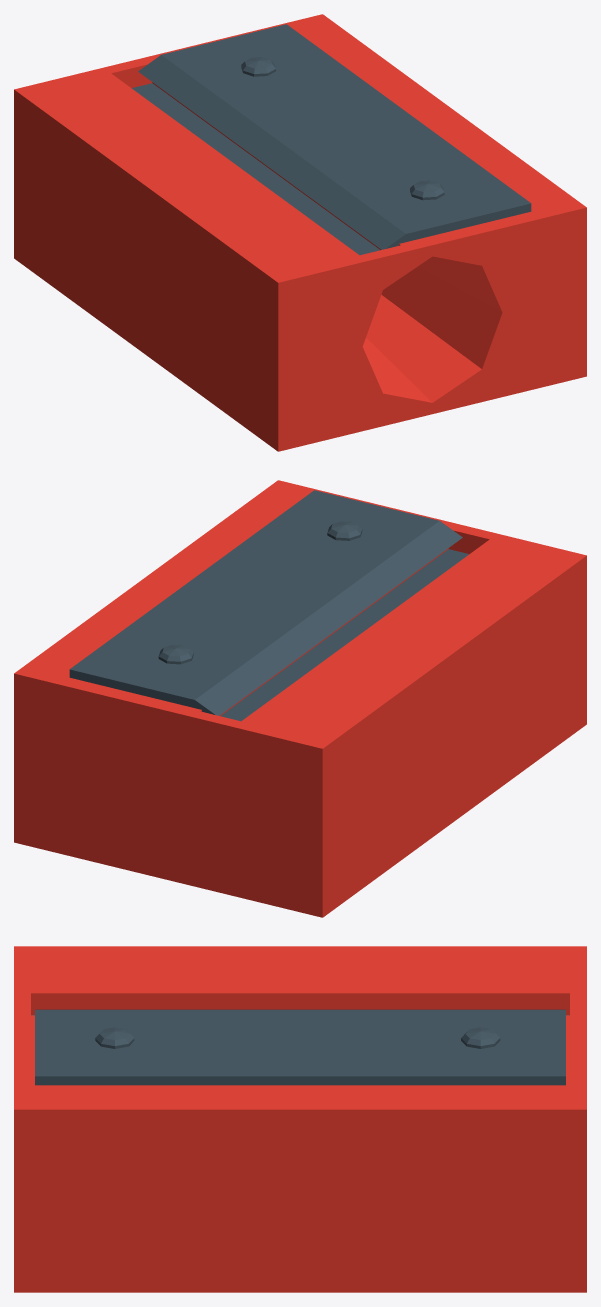
File: pencil-sharpener.glb
3 renders of one model, top to bottom at view 1: azimuth 30°, elevation 25°; view 2: azimuth 150°, elevation 25°; view 3: azimuth 270°, elevation 25°, orthographic. The views are drawn at different scales.
Visible parts, largest first — view 1: Pencil_Sharpener_Cube.042; view 2: Pencil_Sharpener_Cube.042; view 3: Pencil_Sharpener_Cube.042.
Part boxes in pixels (x1,y1,x2,y2): Pencil_Sharpener_Cube.042: (14, 14, 586, 451); Pencil_Sharpener_Cube.042: (14, 480, 586, 917); Pencil_Sharpener_Cube.042: (14, 946, 586, 1292).
Size of the model in its own units: 6.83 by 3.93 by 10.12.
